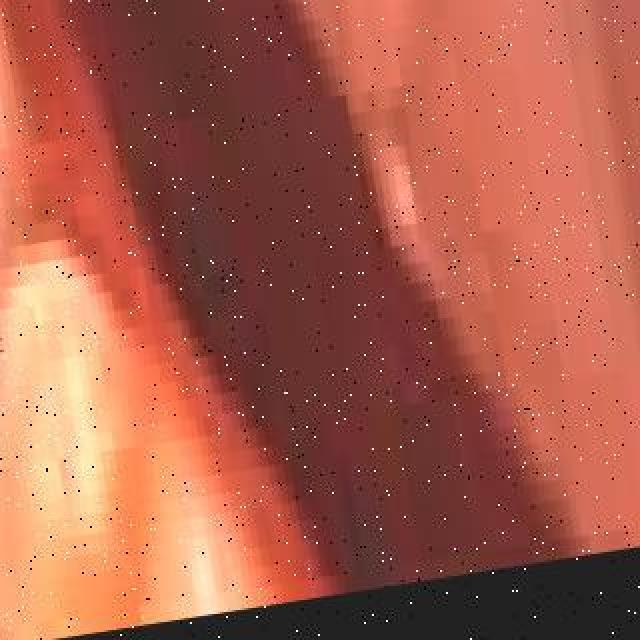cavities: (0, 0, 126, 344)
